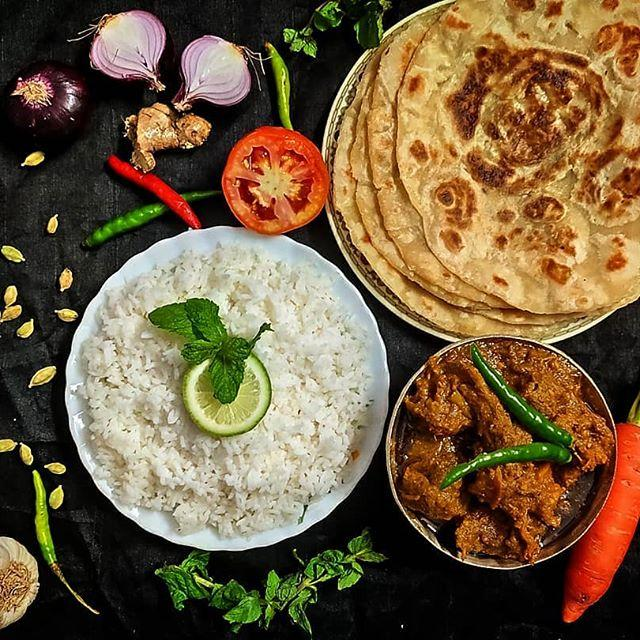Roti: (348, 29, 640, 376), (374, 9, 640, 372), (397, 0, 640, 322), (326, 92, 604, 340)
White Rice: (74, 224, 396, 546)
